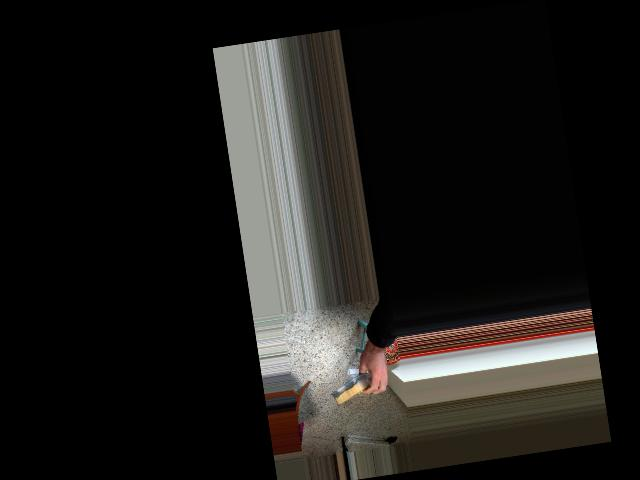cheese: (324, 357, 398, 420)
